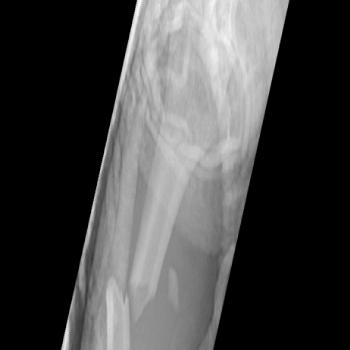Fracture: (104, 255, 158, 323)
